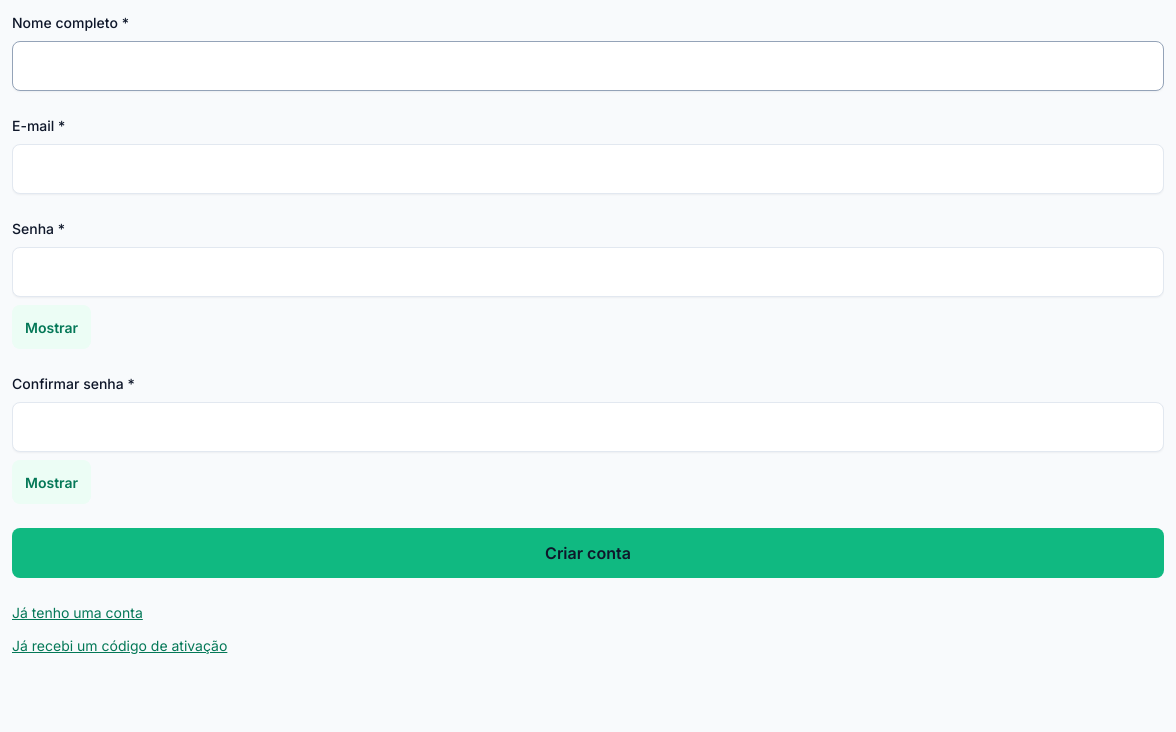
Test: registration form › displays a duplicate email error and permits correction
This screenshot has width=1176, height=732.
Type "Pessoa de teste" into the field labelled "Nome completo *" at (588, 66), box [12,41,1164,91]
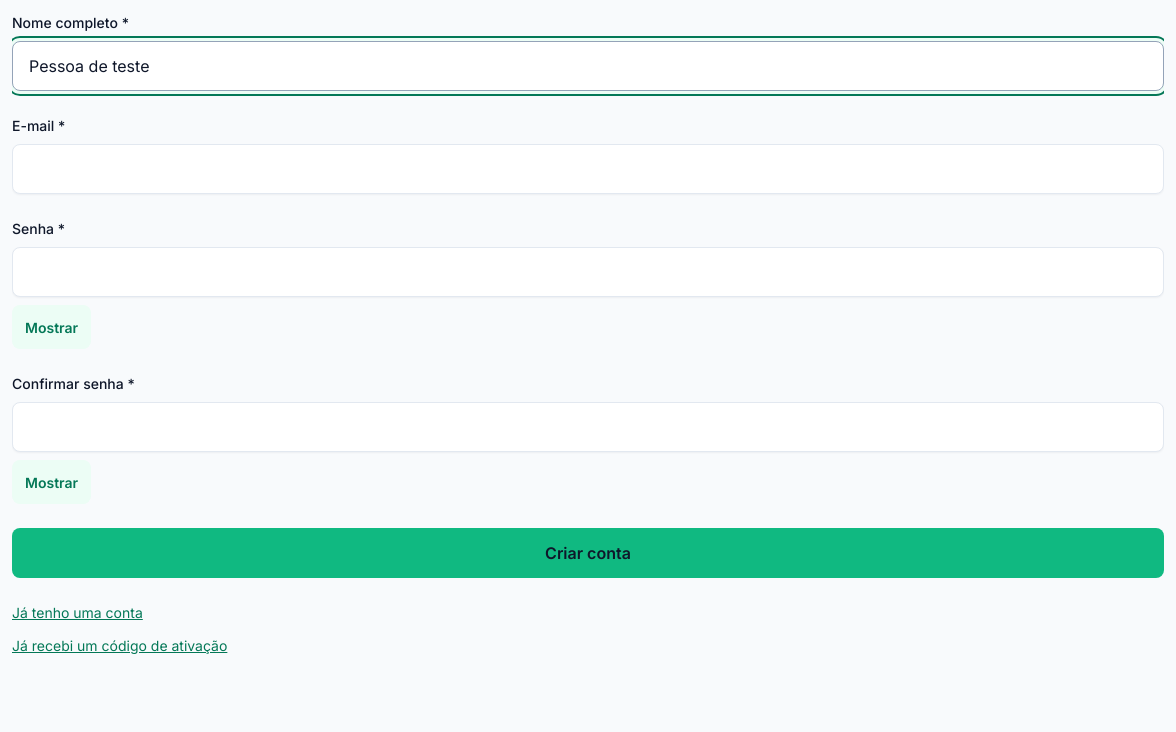
Type "test@example.com" into the field labelled "E-mail *" at (588, 169), box [12,144,1164,194]
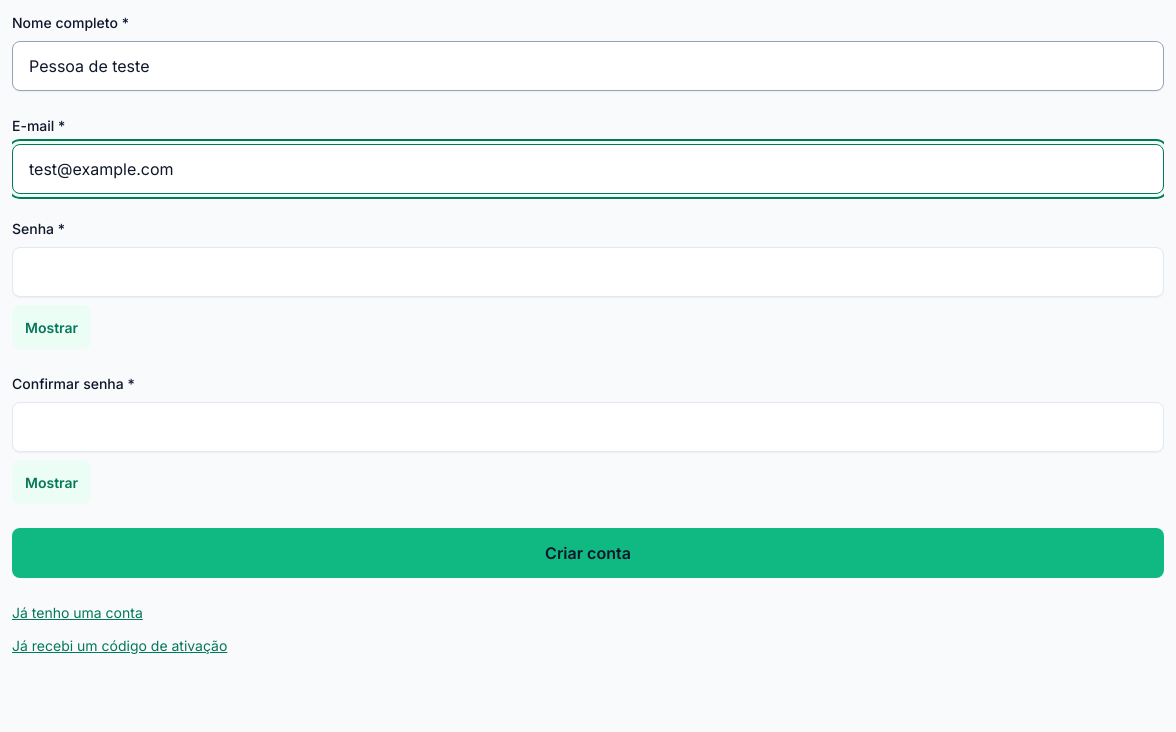
Type "x" into the password field labelled "Senha *" at (588, 272), box [12,247,1164,297]
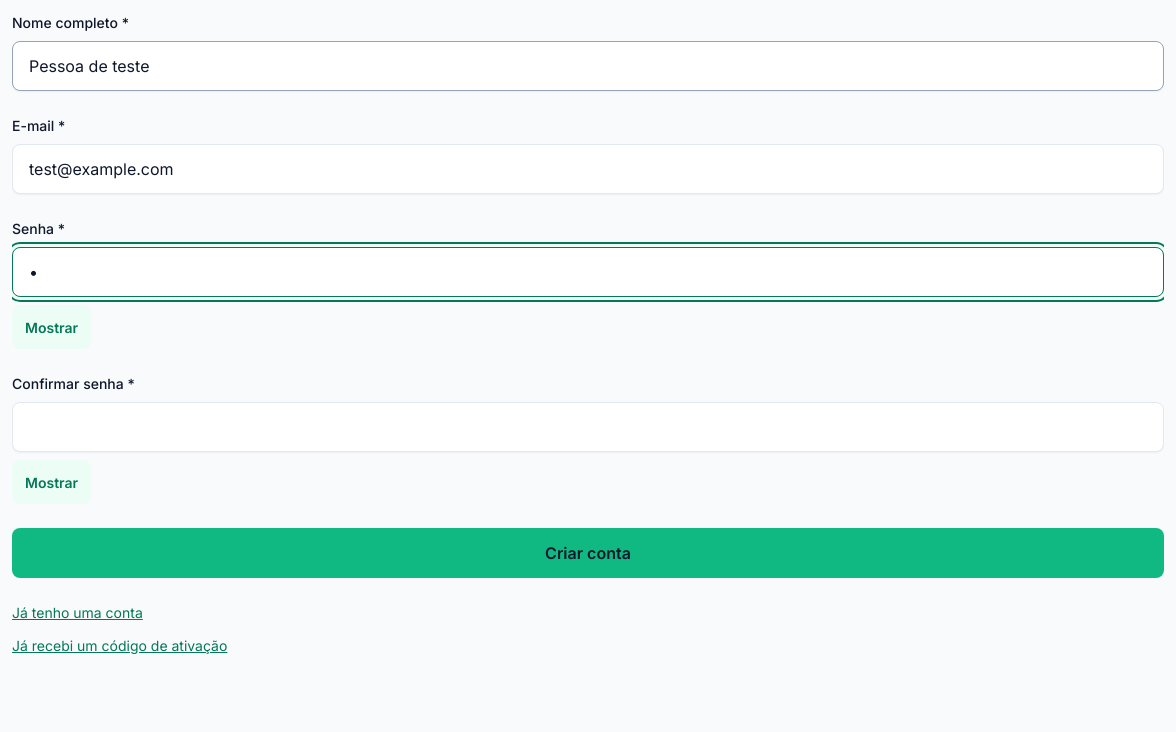
Type "x" into the password field labelled "Confirmar senha *" at (588, 427), box [12,402,1164,452]
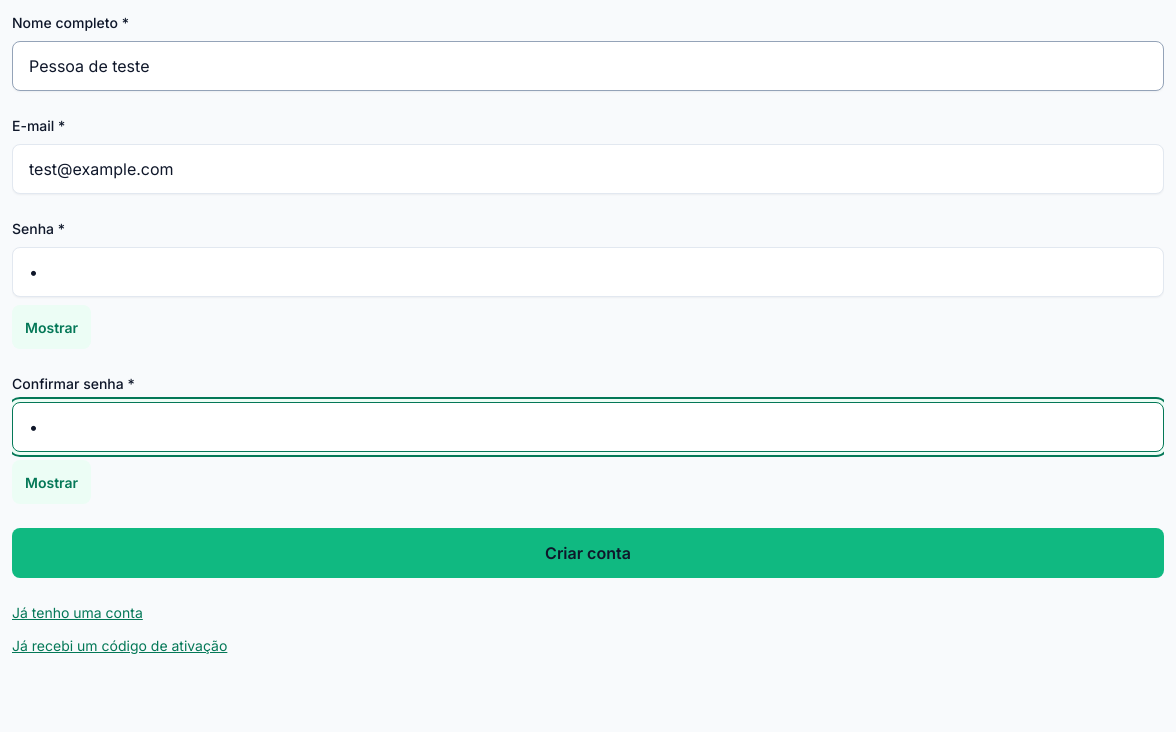
Click the button "Criar conta" at (588, 553), box [12,528,1164,578]
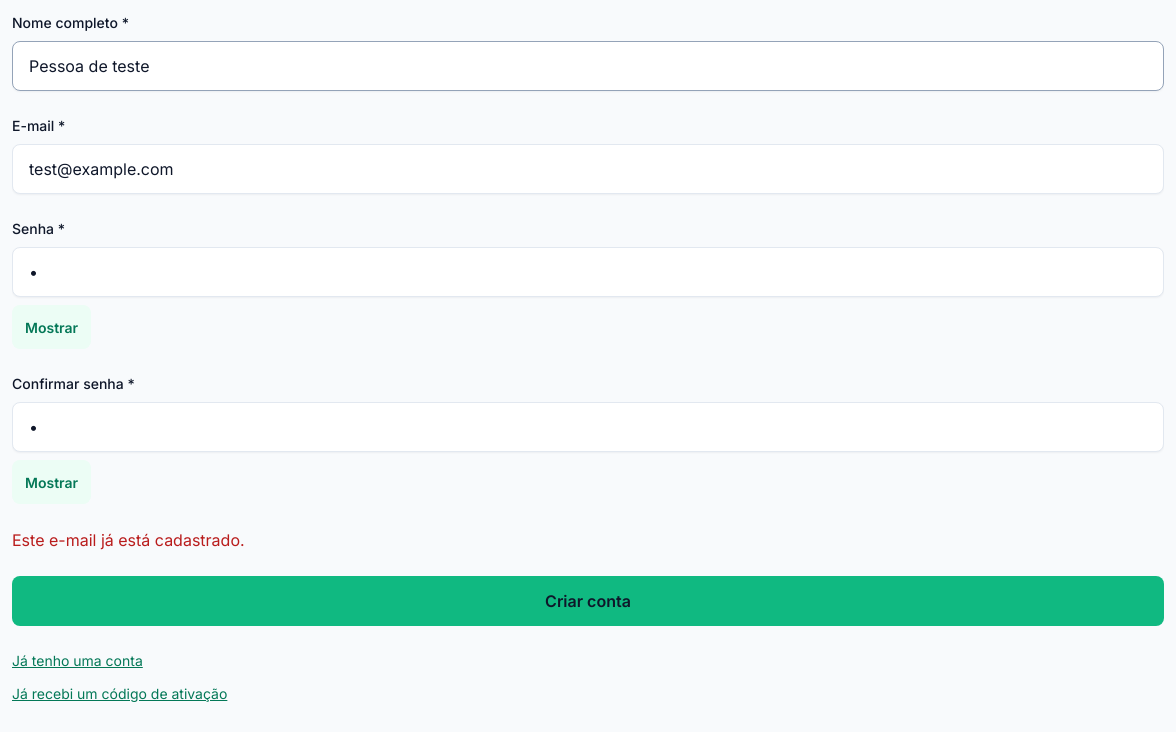
Expected: the button "Criar conta" is enabled, [12,576,1164,626]
Result: the message reads "Este e-mail já está cadastrado." at [12,530,245,550]
